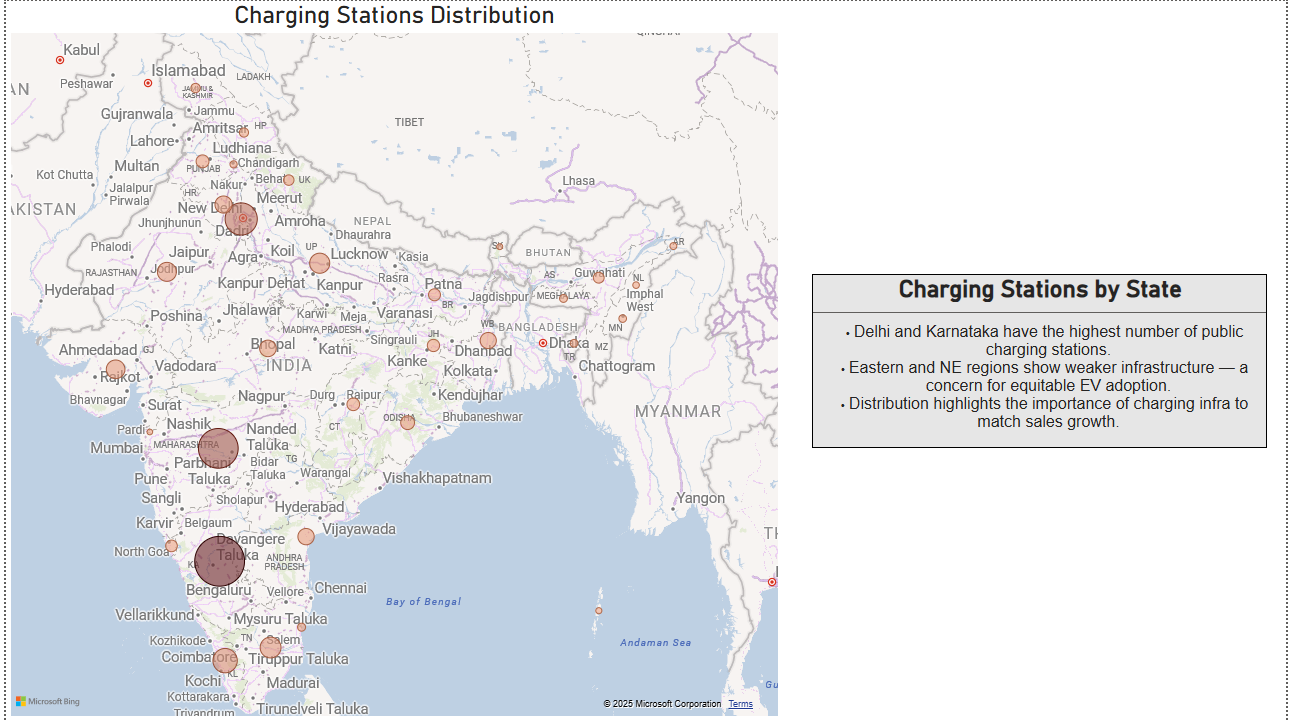

Layout of this report page (visuals, bound fields, positions):
{"tool":"powerbi","page":{"name":"Page 2","canvas":[1280,720],"ordinal":1},"visuals":[{"type":"map","title":"Charging Stations Distribution","fields":{"Category":["ev_project ev_readiness.State"],"Size":["Sum(ev_project ev_readiness.Stations)"]},"box":[0,0,777,720],"z":0},{"type":"textbox","title":"Charging Stations by State","box":[806,273,455,174],"z":1},{"type":"textbox","box":[806,605,455,89],"z":2}]}

Visuals, with their boxes in screenshot pixels (x1, y1, x2, y2), scaled from the page's 1280x720 canvas onto the 1289x720 screenshot:
"Charging Stations Distribution" map: <box>0,0,782,719</box>
"Charging Stations by State" textbox: <box>812,273,1270,447</box>
textbox: <box>812,605,1270,694</box>
